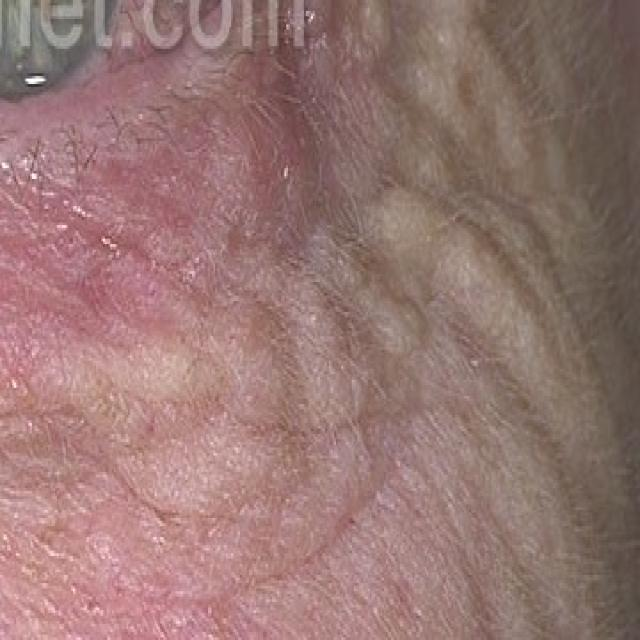Rosacea: (0, 79, 288, 338)
